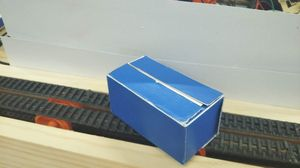box3: (106, 52, 224, 164)
